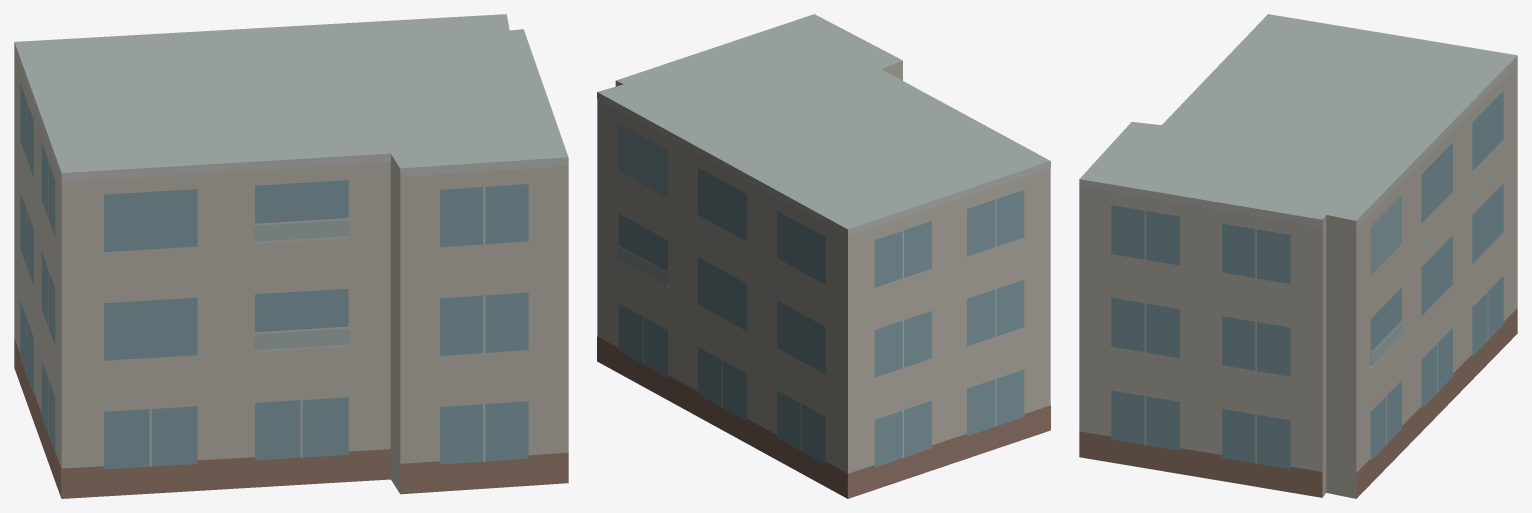
Rendered from survey-upis-32656929.glb.
3 renders of one model, left to right at view 1: azimuth 30°, elevation 25°; view 2: azimuth 150°, elevation 25°; view 3: azimuth 270°, elevation 25°, orthographic. The views are drawn at different scales.
Visible parts, largest first — view 1: survey-upis-32656929.tmp; view 2: survey-upis-32656929.tmp; view 3: survey-upis-32656929.tmp.
Boxes of the visible parts, x1,y1,x2,y2 form: survey-upis-32656929.tmp: (14,14,568,498); survey-upis-32656929.tmp: (597,14,1050,498); survey-upis-32656929.tmp: (1079,14,1517,498).
Bounding box in the file's own units: 14.61 × 9.15 × 13.08.
